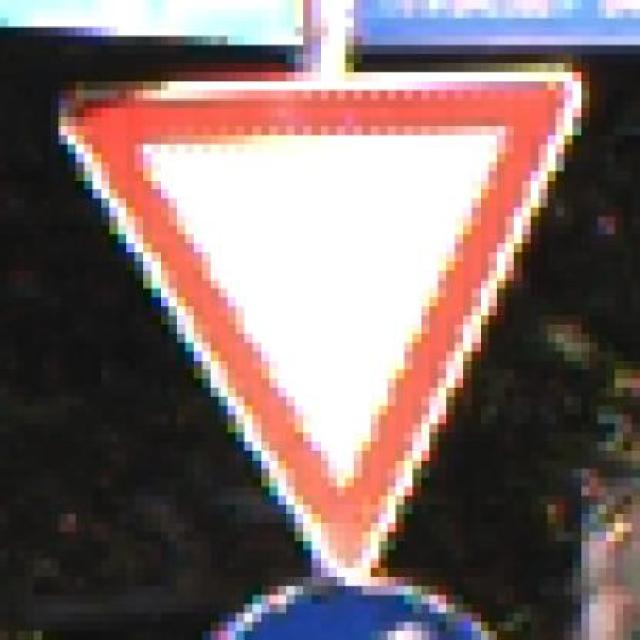Give Way: (41, 45, 598, 604)
